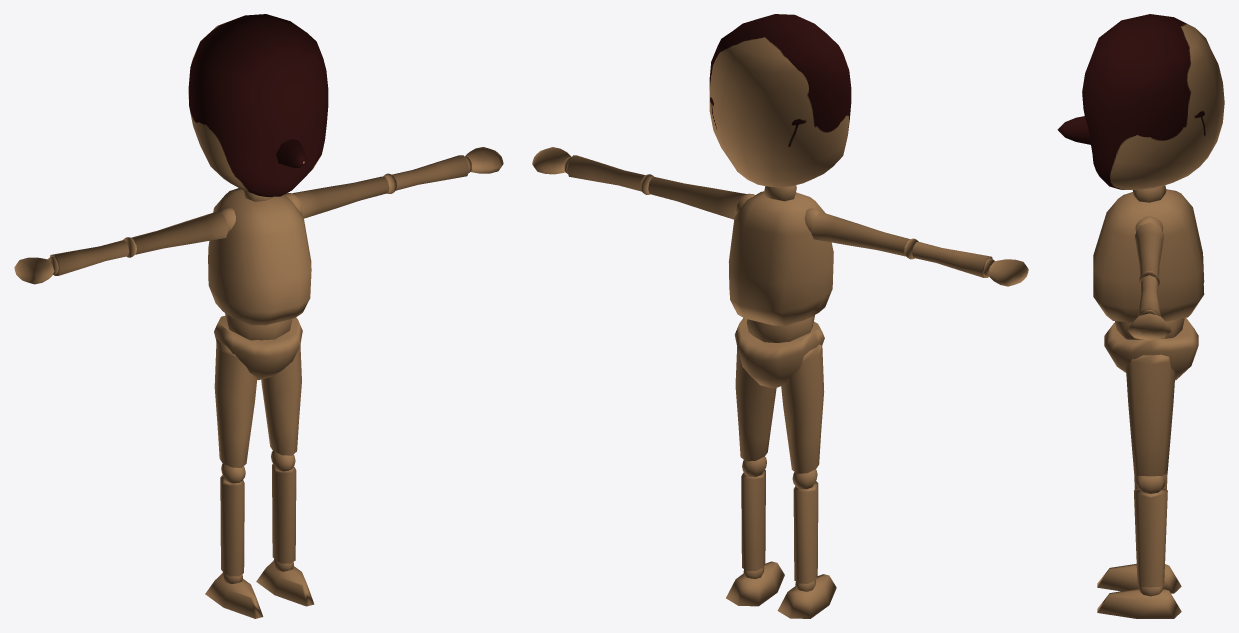
Rendered from m_buriki_Nester.fbx.
The picture shows the model from 3 angles, left to right: view 1: azimuth 30°, elevation 25°; view 2: azimuth 150°, elevation 25°; view 3: azimuth 270°, elevation 25°; orthographic projection.
Parts seen in each view (by area): view 1: m_buriki; view 2: m_buriki; view 3: m_buriki.
Boxes of the visible parts, bbox=[...] form: m_buriki: bbox=[14, 14, 503, 618]; m_buriki: bbox=[532, 14, 1028, 618]; m_buriki: bbox=[1057, 14, 1224, 618].
Bounding box in the file's own units: 6.09 × 6.93 × 1.81.
